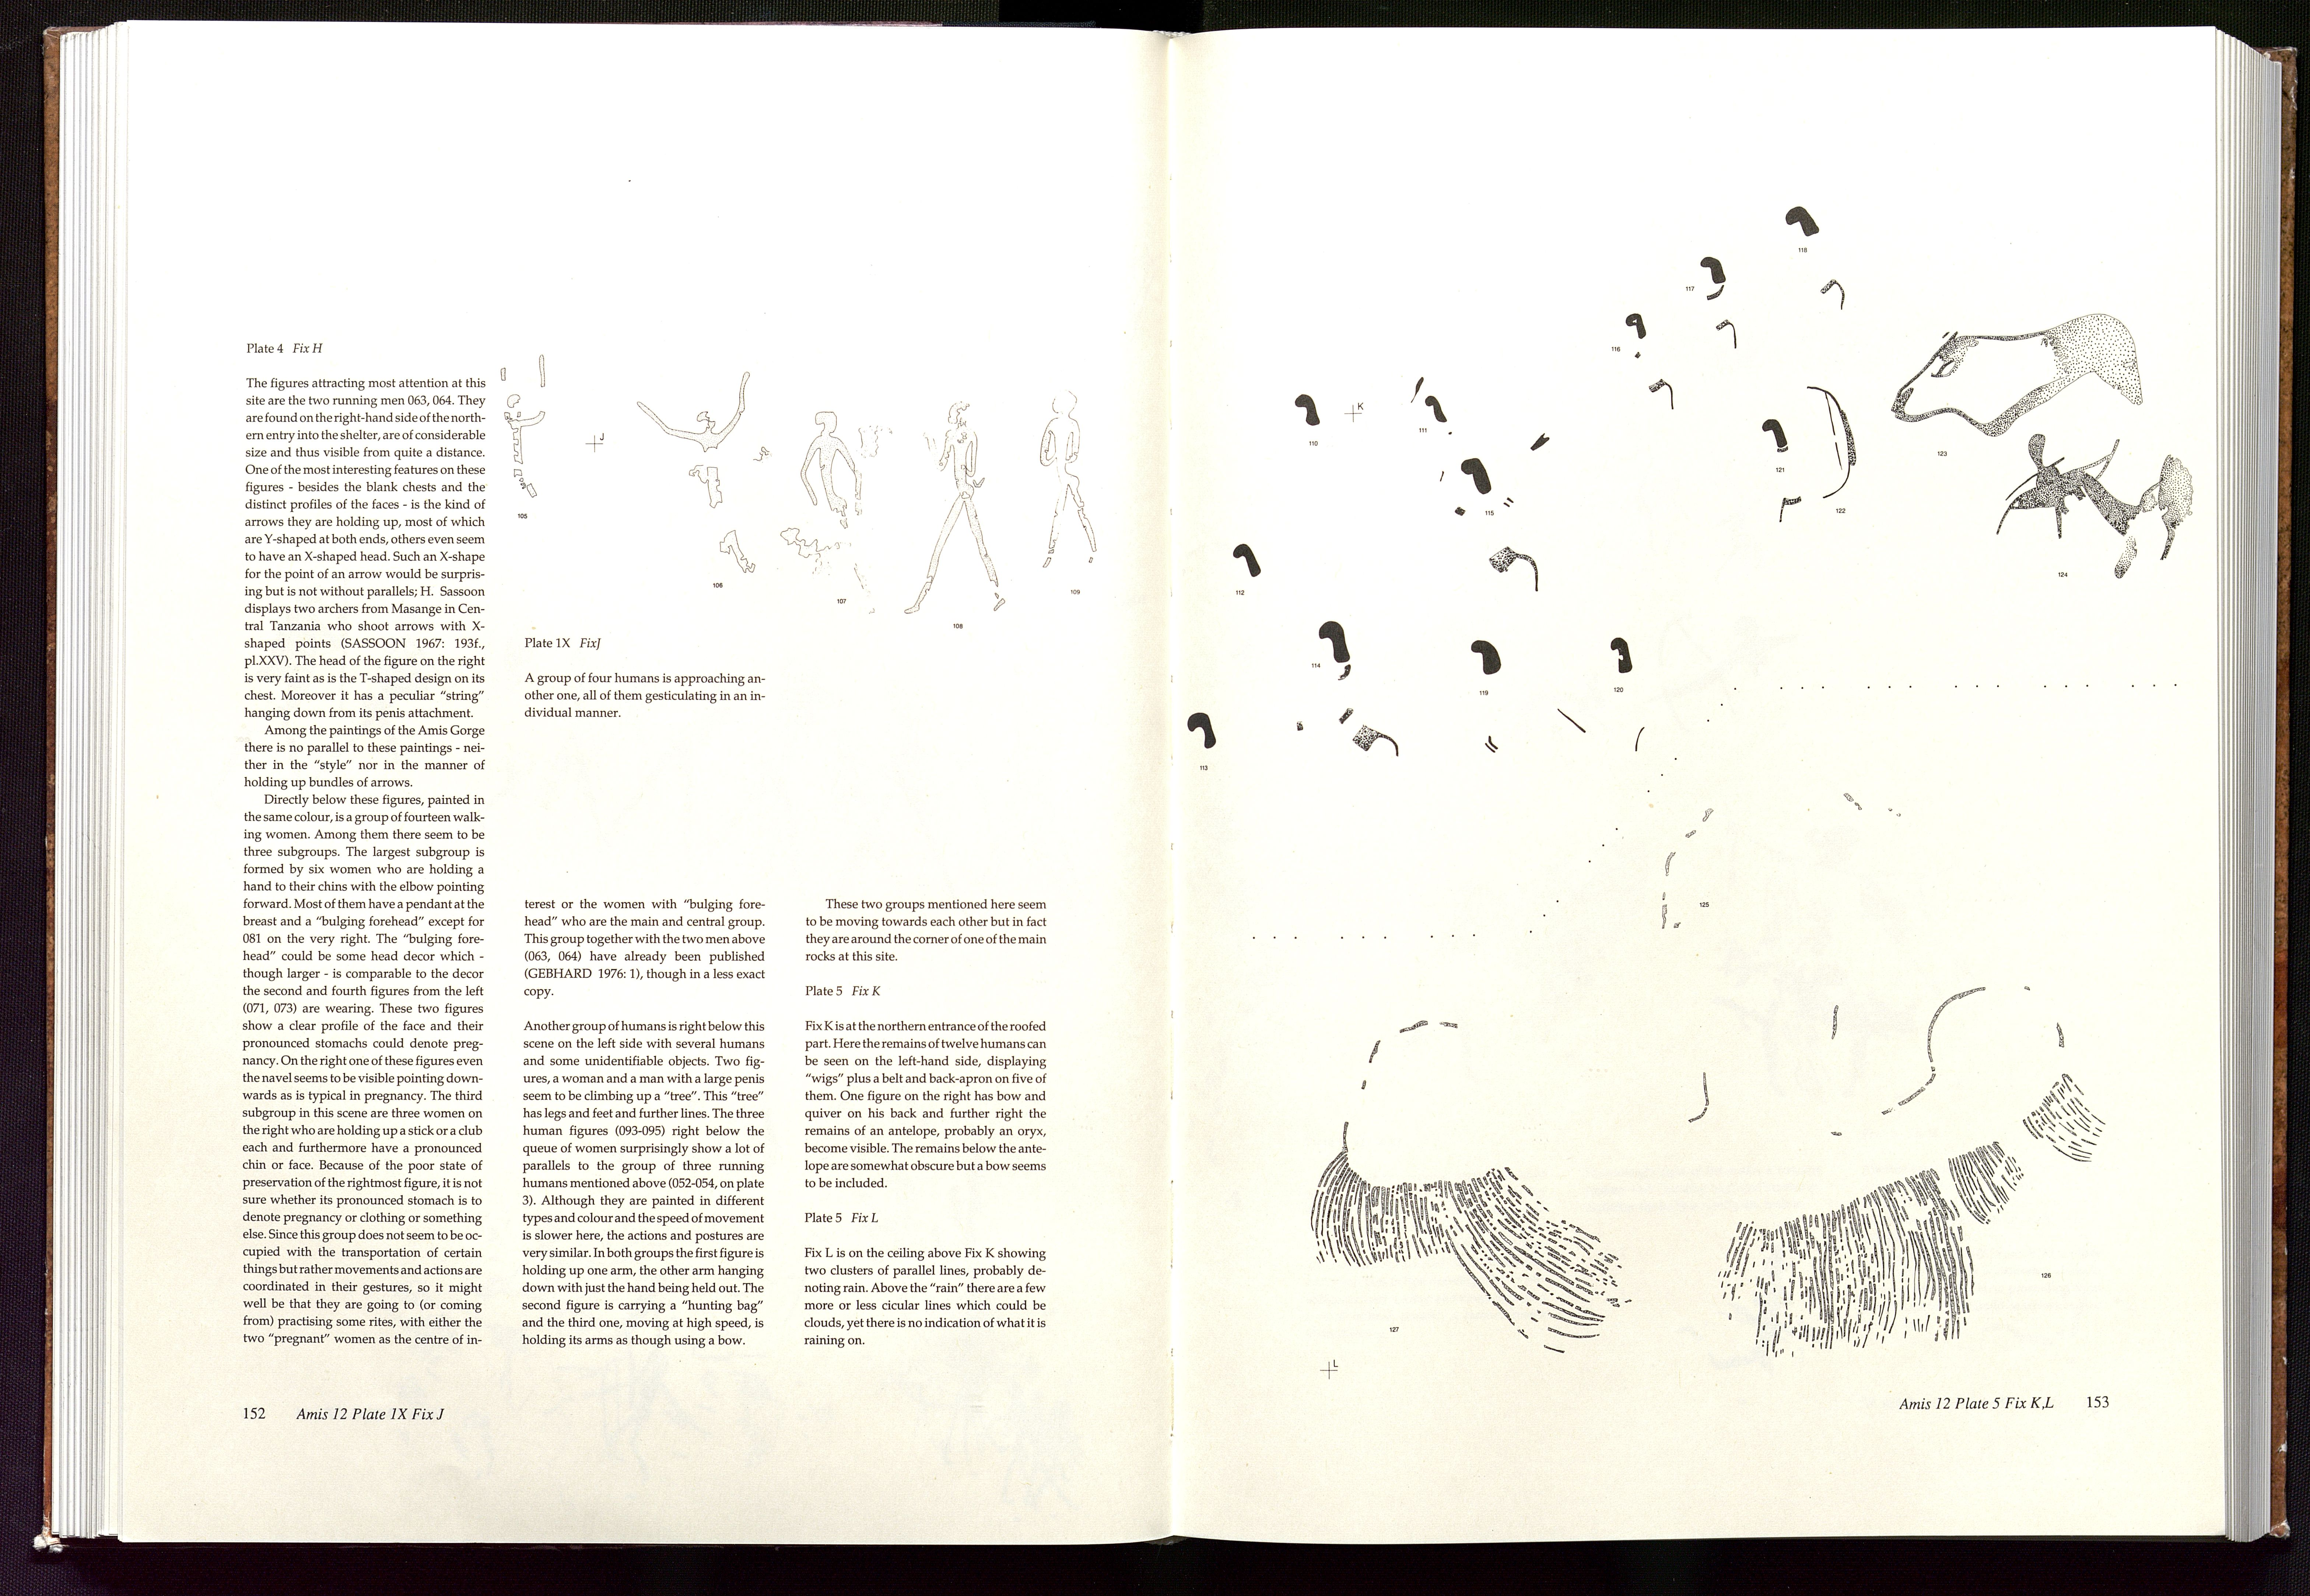animal: (1888, 308, 2153, 450)
human: (618, 355, 770, 603), (893, 392, 1013, 632), (775, 399, 879, 603), (1013, 382, 1109, 588)
